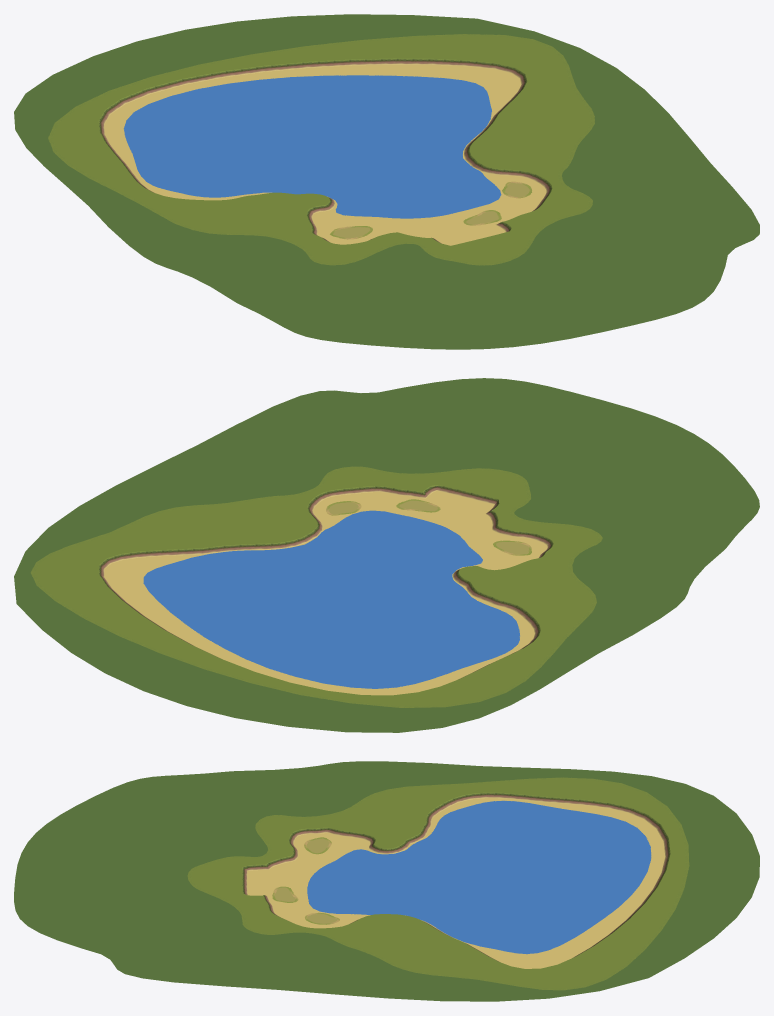
The model's file is Terrain.fbx.
3 views of the same model, one above another, from view 1: azimuth 30°, elevation 25°; view 2: azimuth 150°, elevation 25°; view 3: azimuth 270°, elevation 25° (orthographic). The views are drawn at different scales.
Visible parts, largest first — view 1: OuterBorder, Cluster2, Cluster7, Inner; view 2: OuterBorder, Cluster2, Cluster7, Inner; view 3: OuterBorder, Cluster2, Cluster7, Inner.
Boxes of the visible parts, left/top/right/bottom form: OuterBorder: left=14, top=14, right=759, bottom=349; Cluster2: left=128, top=77, right=497, bottom=216; Cluster7: left=53, top=36, right=589, bottom=263; Inner: left=104, top=64, right=546, bottom=245; OuterBorder: left=14, top=378, right=759, bottom=732; Cluster2: left=147, top=512, right=515, bottom=686; Cluster7: left=35, top=468, right=597, bottom=705; Inner: left=104, top=491, right=547, bottom=695; OuterBorder: left=14, top=761, right=759, bottom=1001; Cluster2: left=311, top=802, right=647, bottom=952; Cluster7: left=192, top=779, right=685, bottom=988; Inner: left=247, top=798, right=665, bottom=968.
Bounding box in the file's own units: 162 × 1 × 212.
